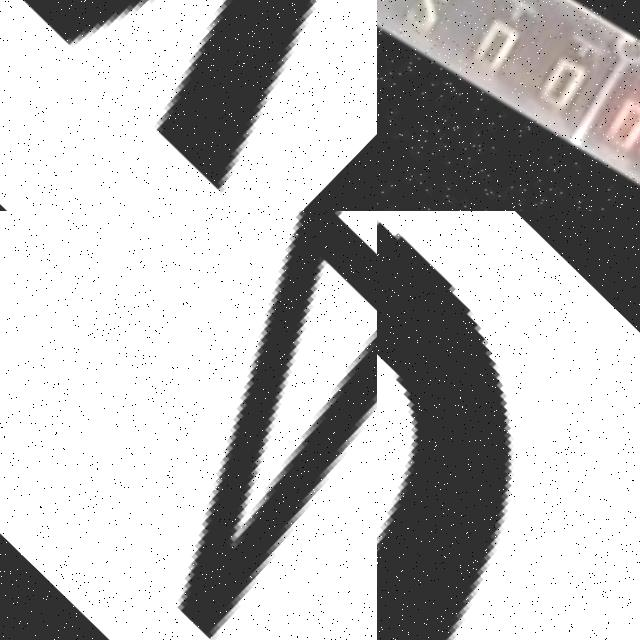0: (454, 6, 530, 83), (520, 42, 597, 118), (584, 85, 640, 162)
2: (389, 0, 462, 45)
A: (0, 211, 377, 640)
U: (377, 211, 640, 640)
W: (0, 0, 377, 210)
